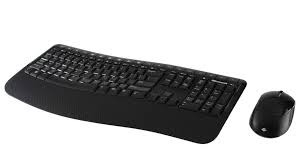keyboard: (7, 43, 242, 148)
mouse: (247, 88, 299, 142)
